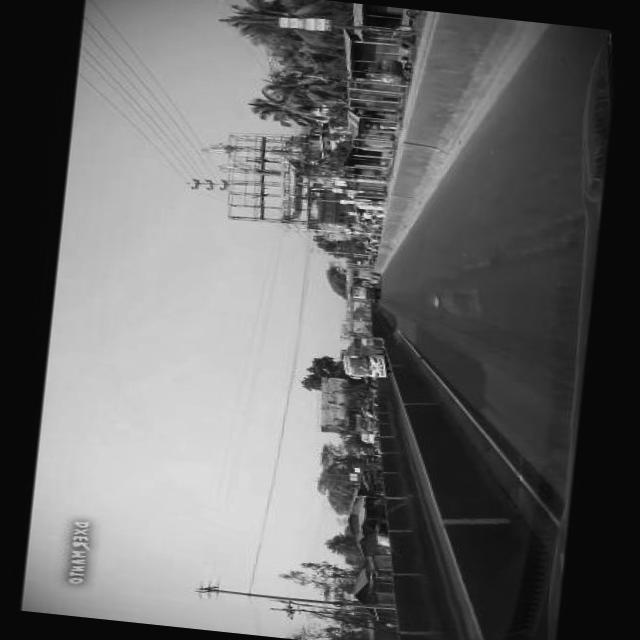bus: (340, 338, 387, 376), (348, 282, 377, 298)
